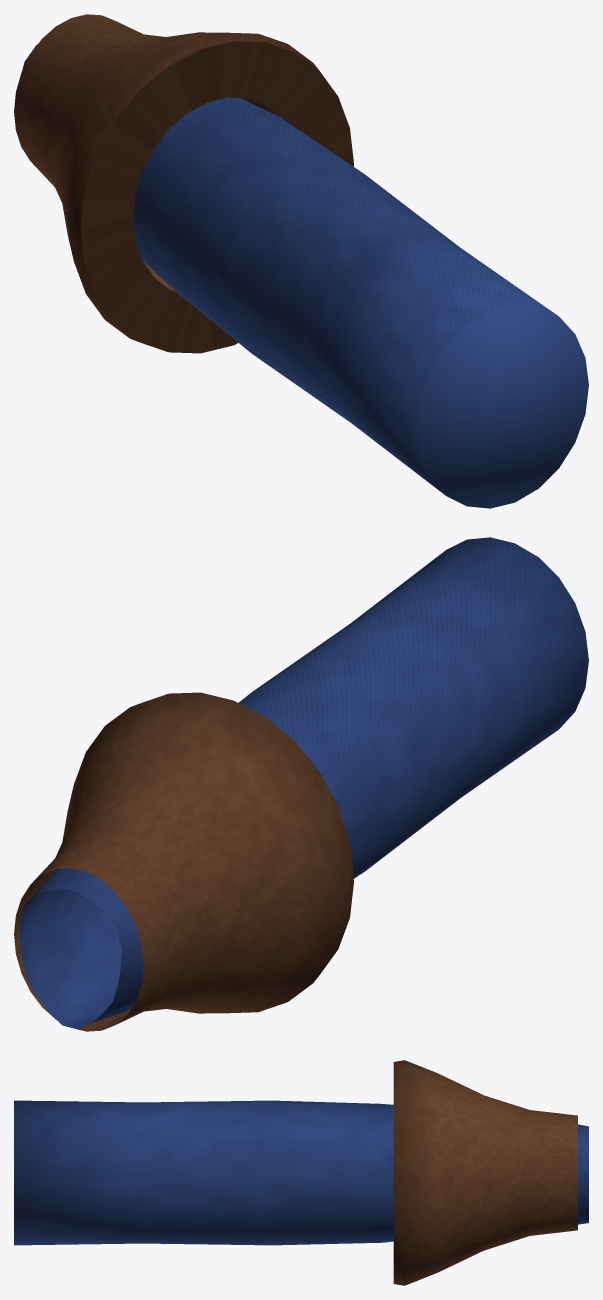
File: fp_forearm_storybook.glb
The picture shows the model from 3 angles, top to bottom: view 1: azimuth 30°, elevation 25°; view 2: azimuth 150°, elevation 25°; view 3: azimuth 270°, elevation 25°; orthographic projection. The views are drawn at different scales.
Parts seen in each view (by area): view 1: fp_forearm; view 2: fp_forearm; view 3: fp_forearm.
Boxes of the visible parts, x1,y1,x2,y2 form: fp_forearm: (14, 14, 588, 508); fp_forearm: (14, 537, 588, 1031); fp_forearm: (14, 1060, 588, 1285).
Bounding box in the file's own units: 0.116 × 0.1231 × 0.312.
2 materials, 2 textured.
